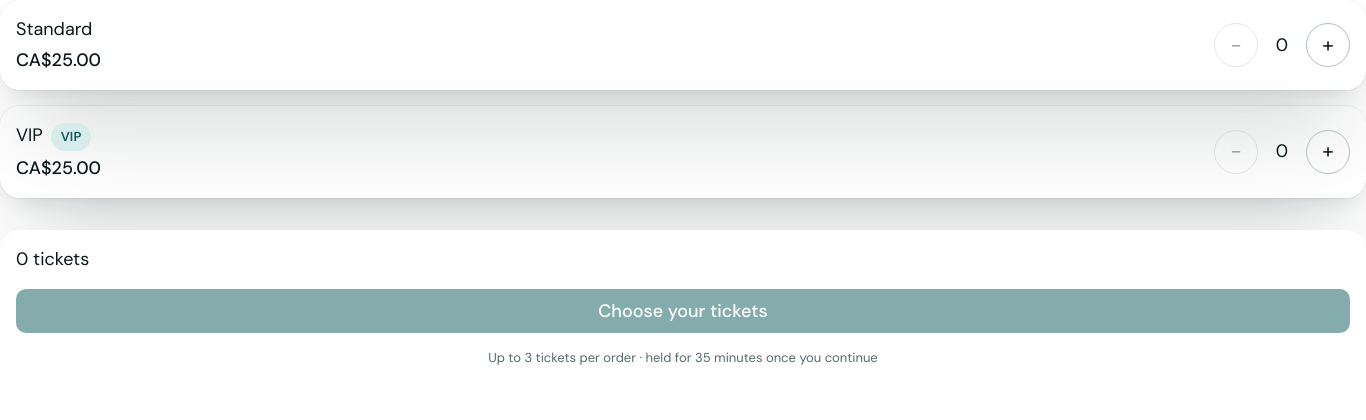
Test: the three caps, in the order they bind › the EVENT's cap stops a total across several types
Click the button named "one more Standard" at (1328, 45), box [1306, 23, 1350, 67]
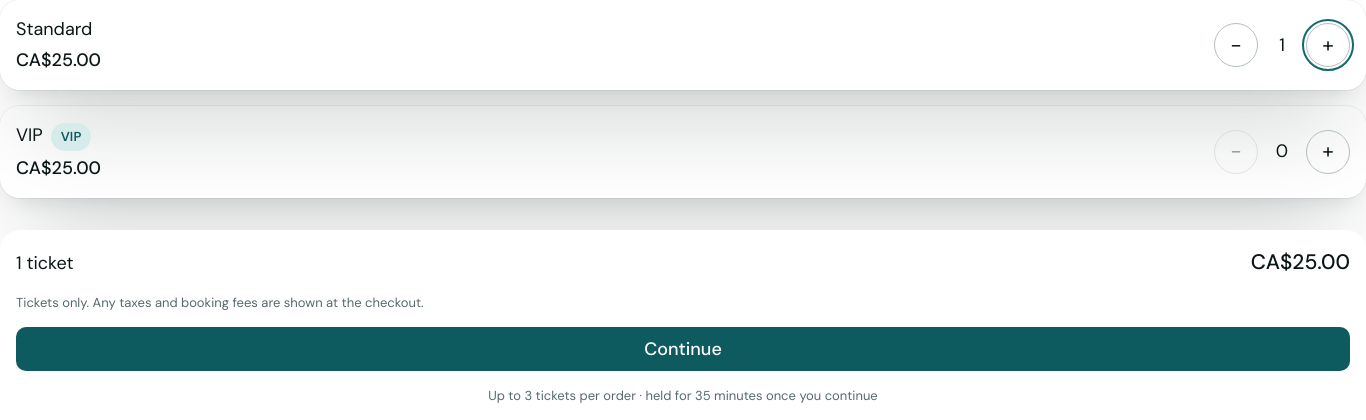
Click the button named "one more Standard" at (1328, 45), box [1306, 23, 1350, 67]
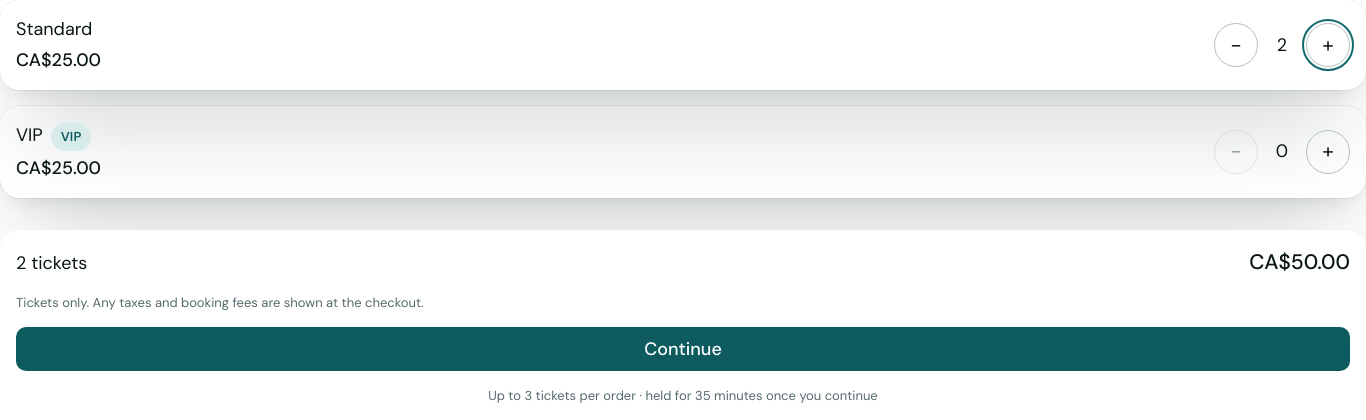
Click the button named "one more VIP" at (1328, 152), box [1306, 130, 1350, 174]
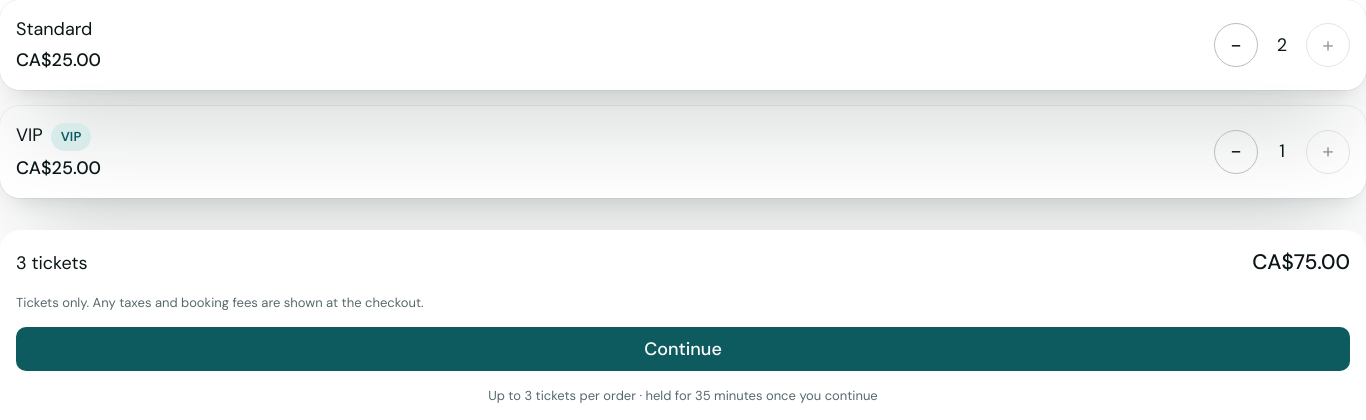
Expected: the text "3 tickets" is shown, [16, 250, 88, 276]
Expected: the button named "one more Standard" is disabled, [1306, 23, 1350, 67]
Expected: the button named "one more VIP" is disabled, [1306, 130, 1350, 174]
